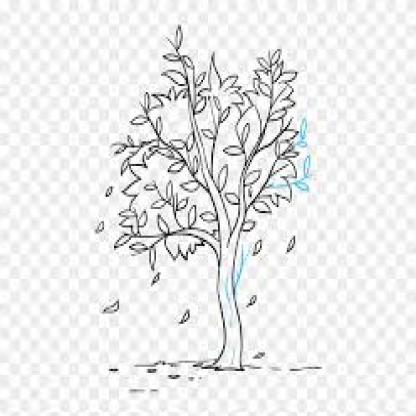branch_sharp: (110, 32, 296, 266)
root_none: (187, 354, 260, 384)
trunk_bark: (209, 272, 250, 339)
